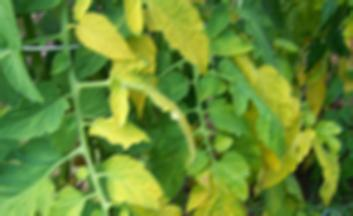Tomato leaf yellow virus: (232, 50, 300, 163), (130, 0, 210, 67), (103, 146, 169, 216), (185, 156, 254, 216), (76, 3, 136, 71), (0, 169, 53, 216)
